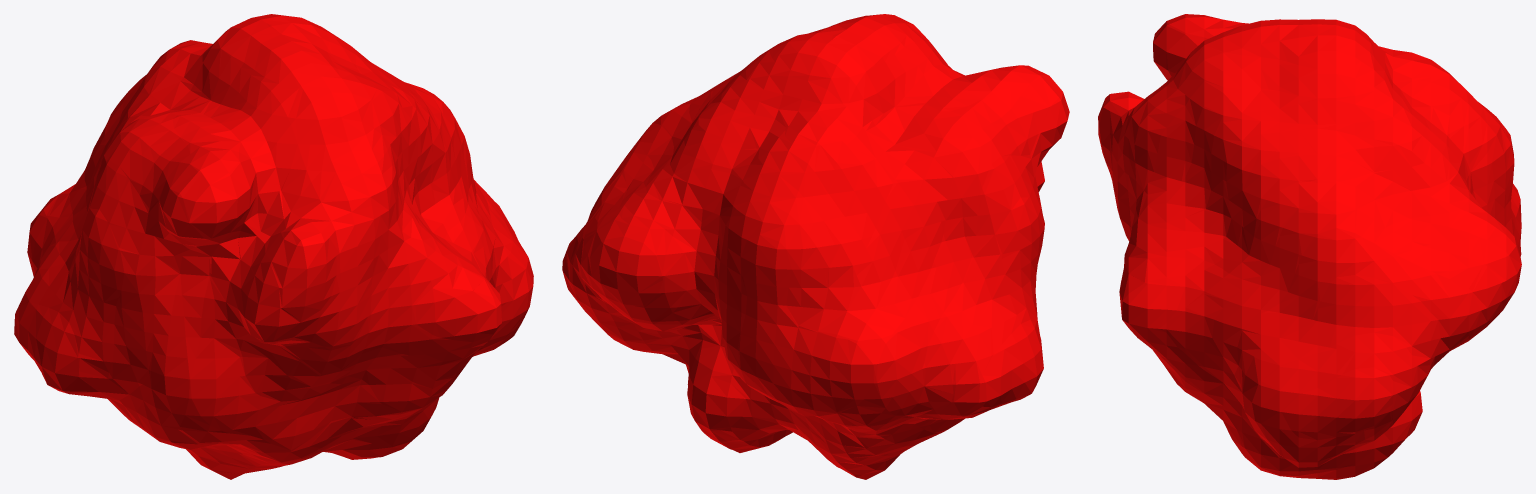
The model's file is xthA_coarse.dae.
3 renders of one model, left to right at view 1: azimuth 30°, elevation 25°; view 2: azimuth 150°, elevation 25°; view 3: azimuth 270°, elevation 25°, orthographic. The views are drawn at different scales.
Parts seen in each view (by area): view 1: xthA; view 2: xthA; view 3: xthA.
Boxes of the visible parts, x1,y1,x2,y2 form: xthA: (14,14,533,479); xthA: (562,14,1069,479); xthA: (1098,14,1521,479).
Bounding box in the file's own units: 57.38 × 51.35 × 47.04.
